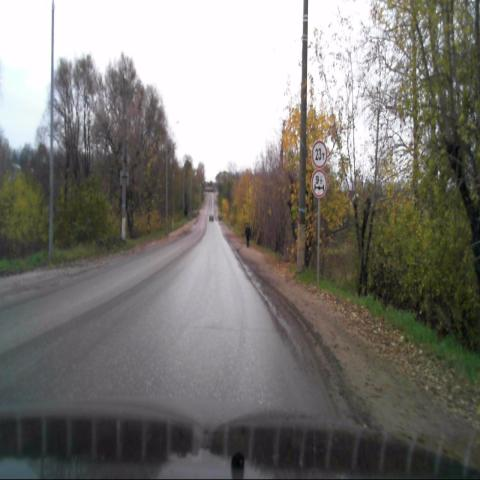3_11: (310, 169, 328, 198), (312, 141, 328, 168)
